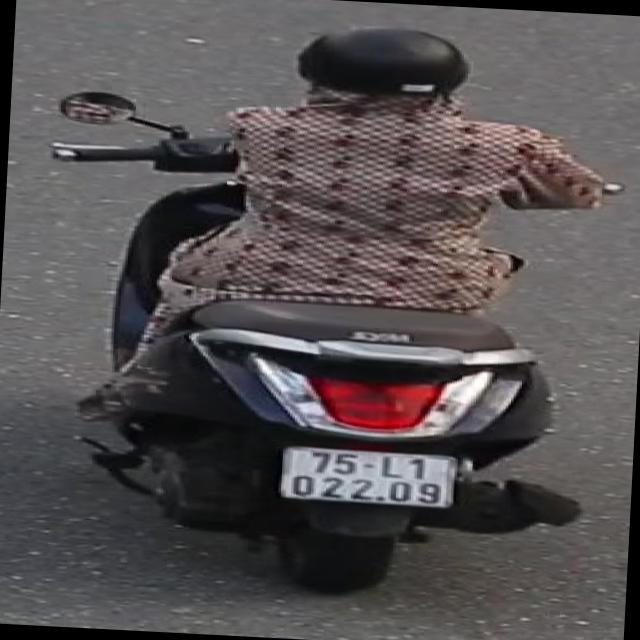LP: (266, 442, 460, 512)
helmet: (285, 14, 493, 127)
